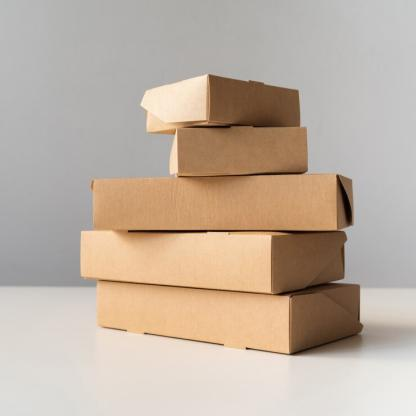box: (95, 281, 291, 357), (91, 173, 338, 232), (80, 230, 272, 294), (174, 126, 307, 175), (208, 73, 301, 125)
